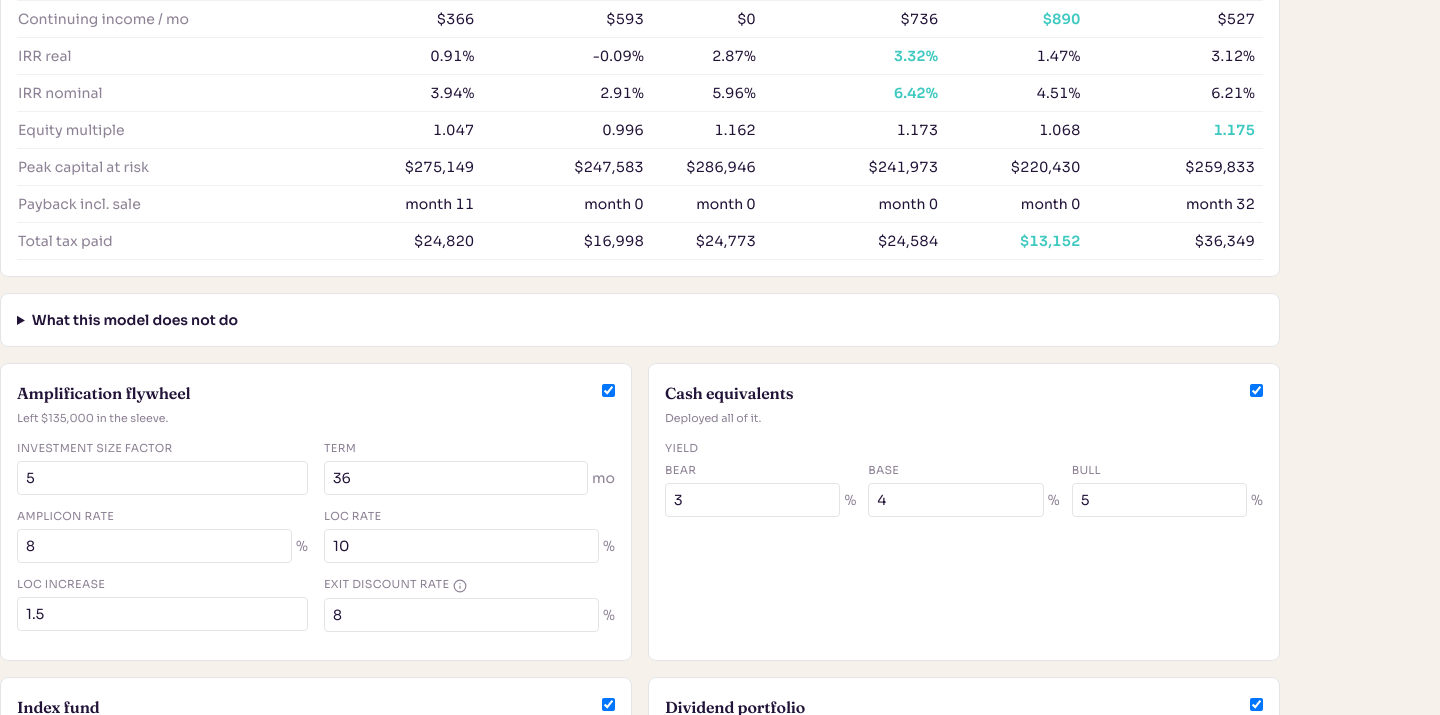
Test: CompareClient › survives every option being switched off
This screenshot has width=1440, height=715.
(page scrolled)
Click the checkbox named "Include Amplification flywheel".
click(608, 391)  # box left=602, top=384, right=615, bottom=397
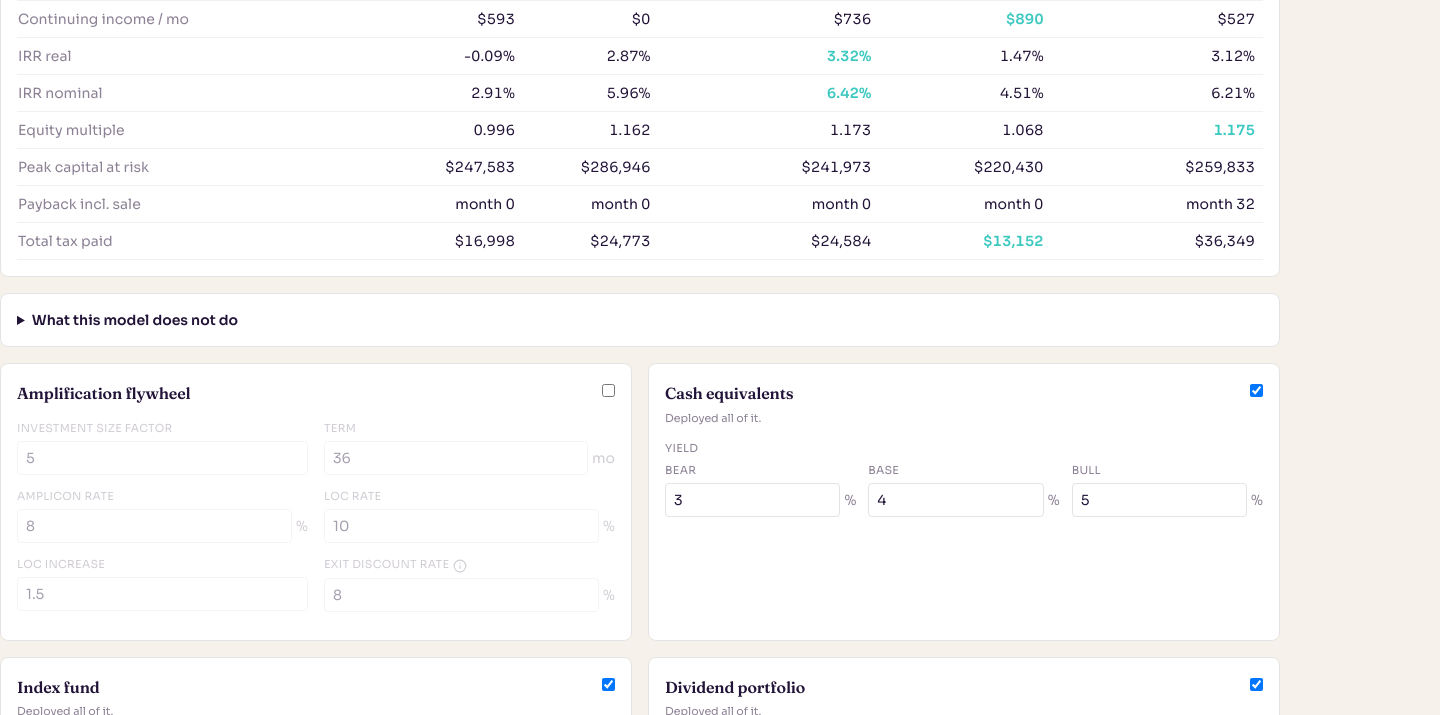
Click the checkbox named "Include Cash equivalents".
click(1256, 391)  # box left=1250, top=384, right=1263, bottom=397
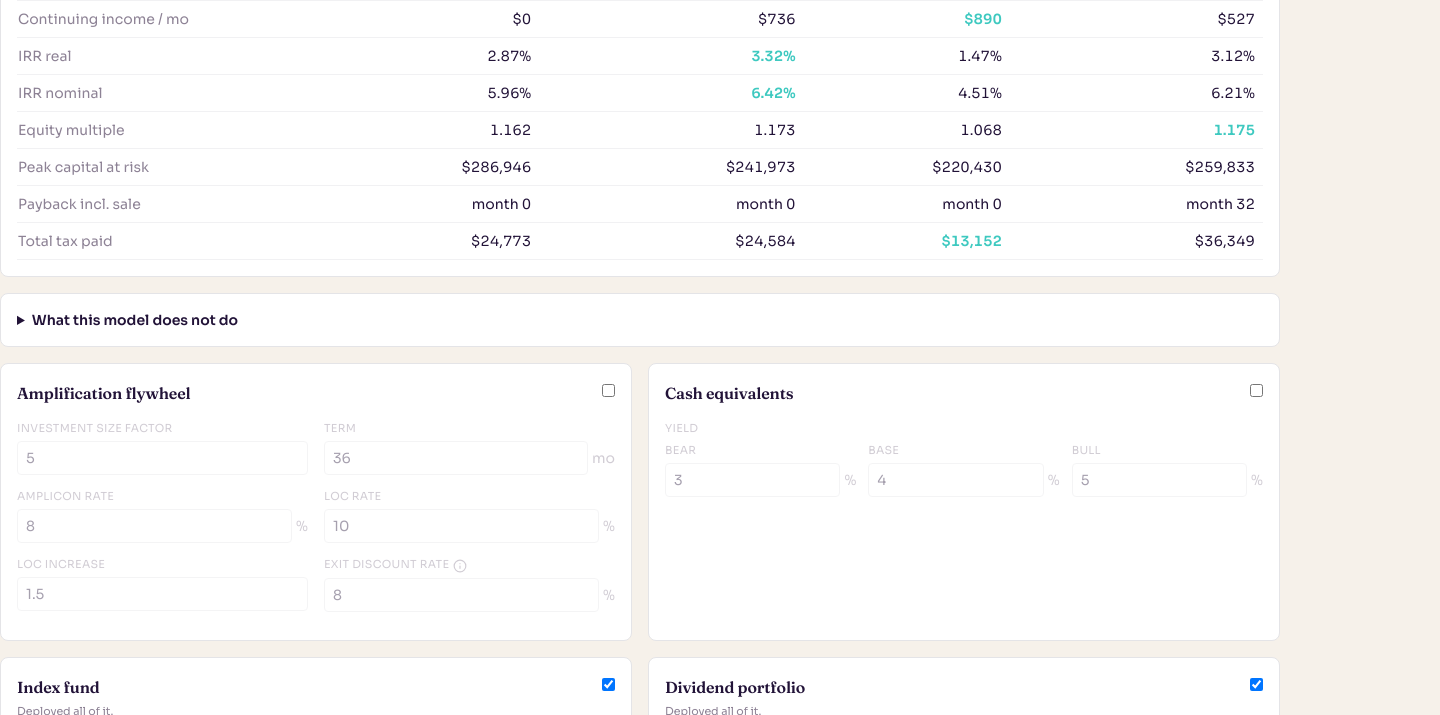
Click the checkbox named "Include Index fund".
click(608, 684)  # box left=602, top=678, right=615, bottom=691
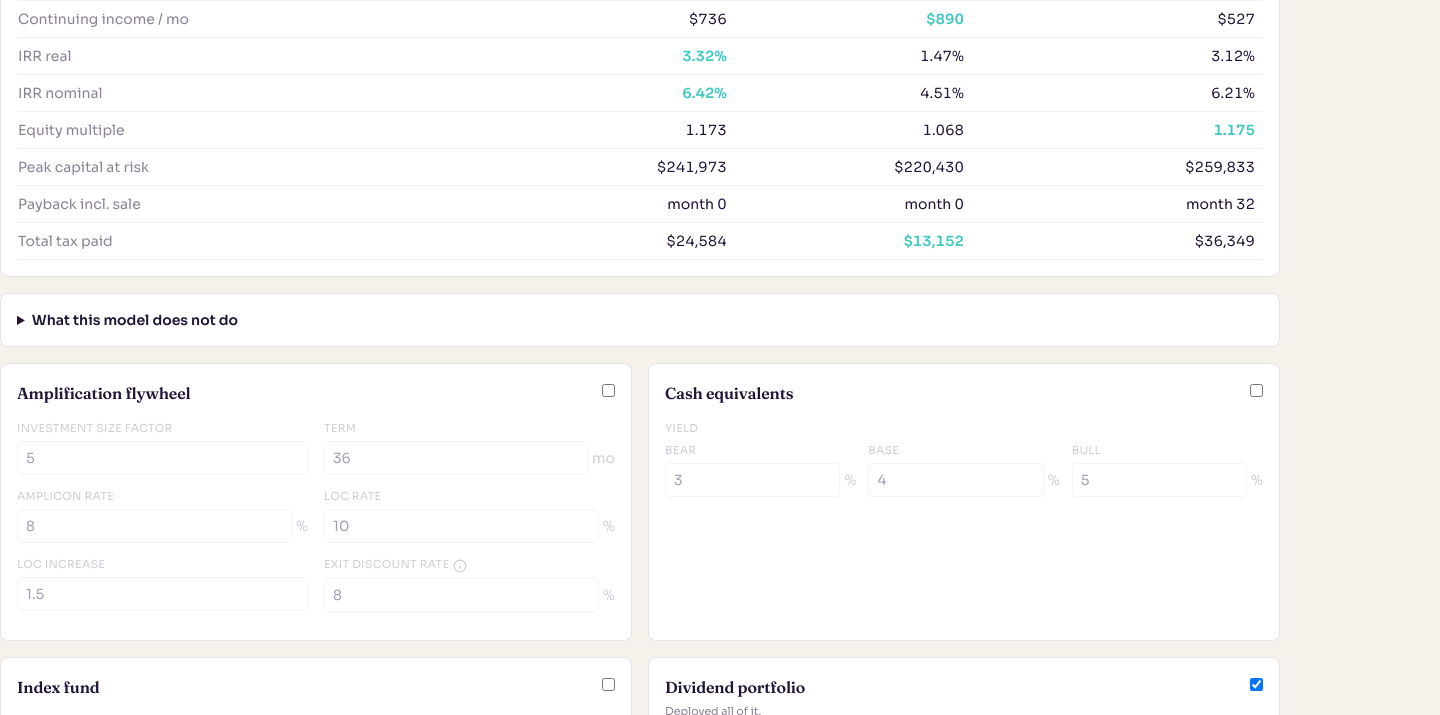
Click the checkbox named "Include Dividend portfolio".
click(1256, 684)  # box left=1250, top=678, right=1263, bottom=691
(page scrolled)
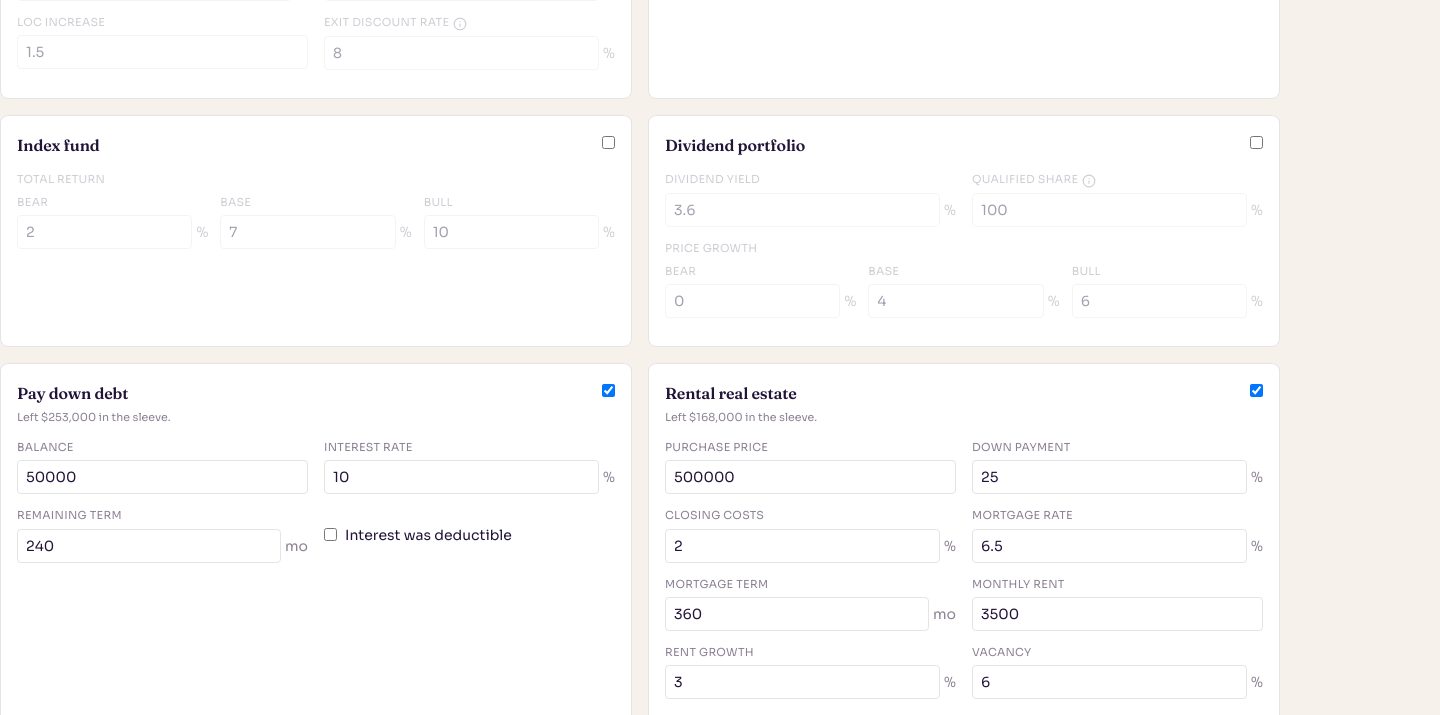
Click the checkbox named "Include Pay down debt".
click(608, 390)  # box left=602, top=384, right=615, bottom=397
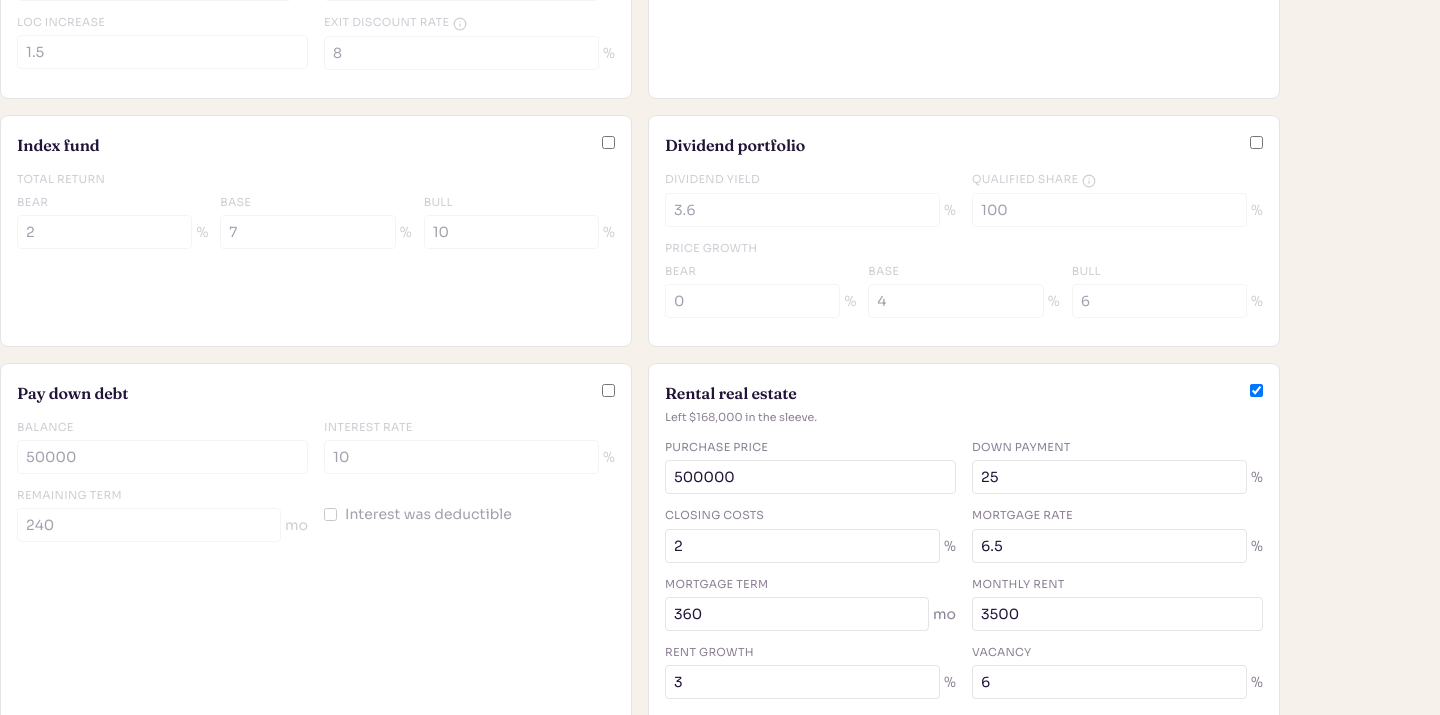
Click the checkbox named "Include Rental real estate".
click(1256, 390)  # box left=1250, top=384, right=1263, bottom=397
(page scrolled)
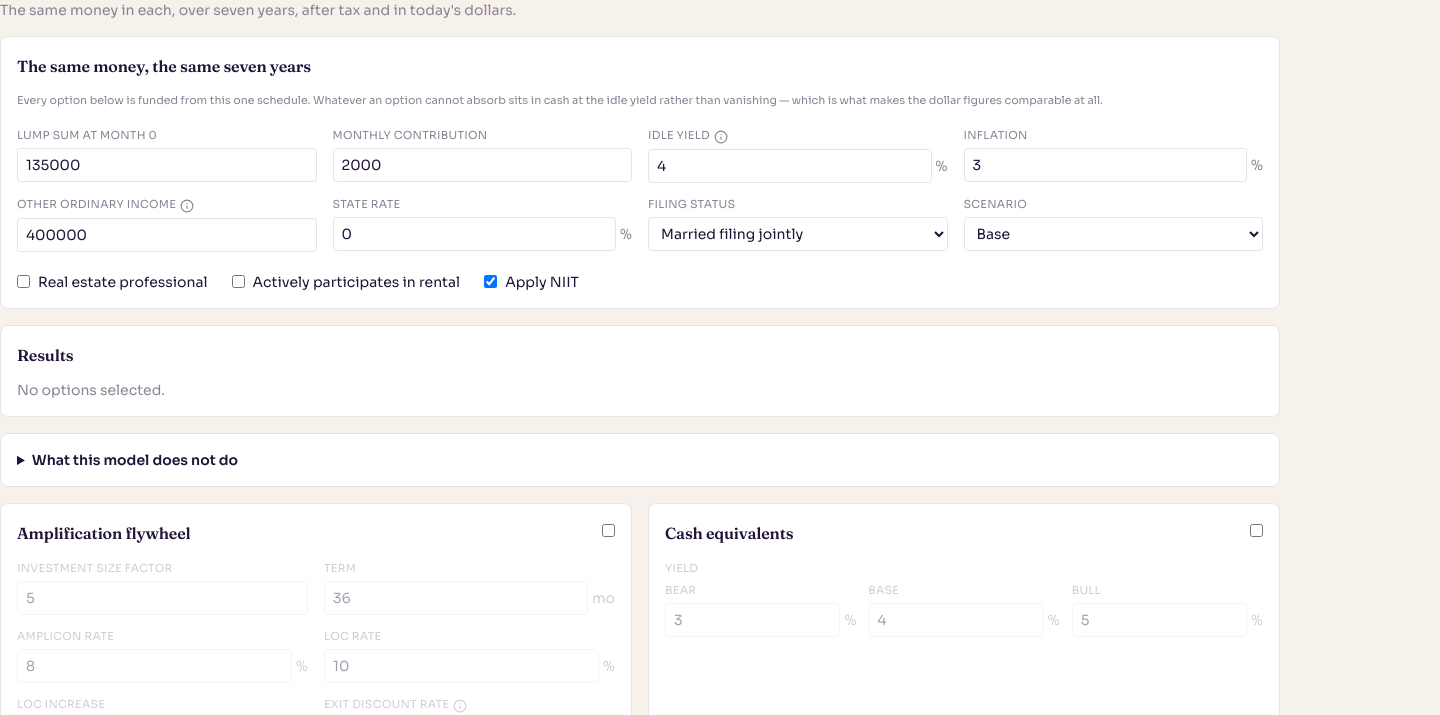
Expected: the text "No options selected." is shown, left=17, top=381, right=165, bottom=399
